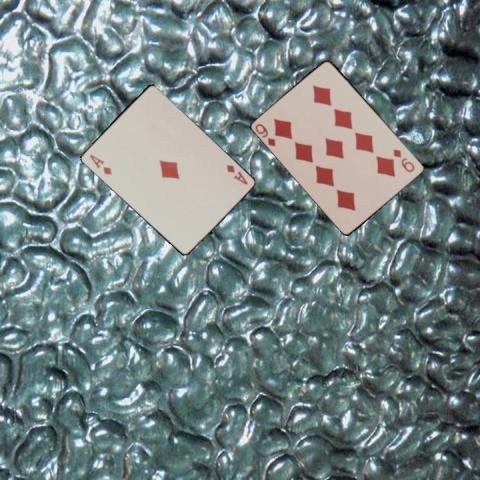9d: (390, 146, 417, 174), (252, 121, 277, 148)
Ad: (86, 151, 113, 176), (223, 161, 249, 186)
